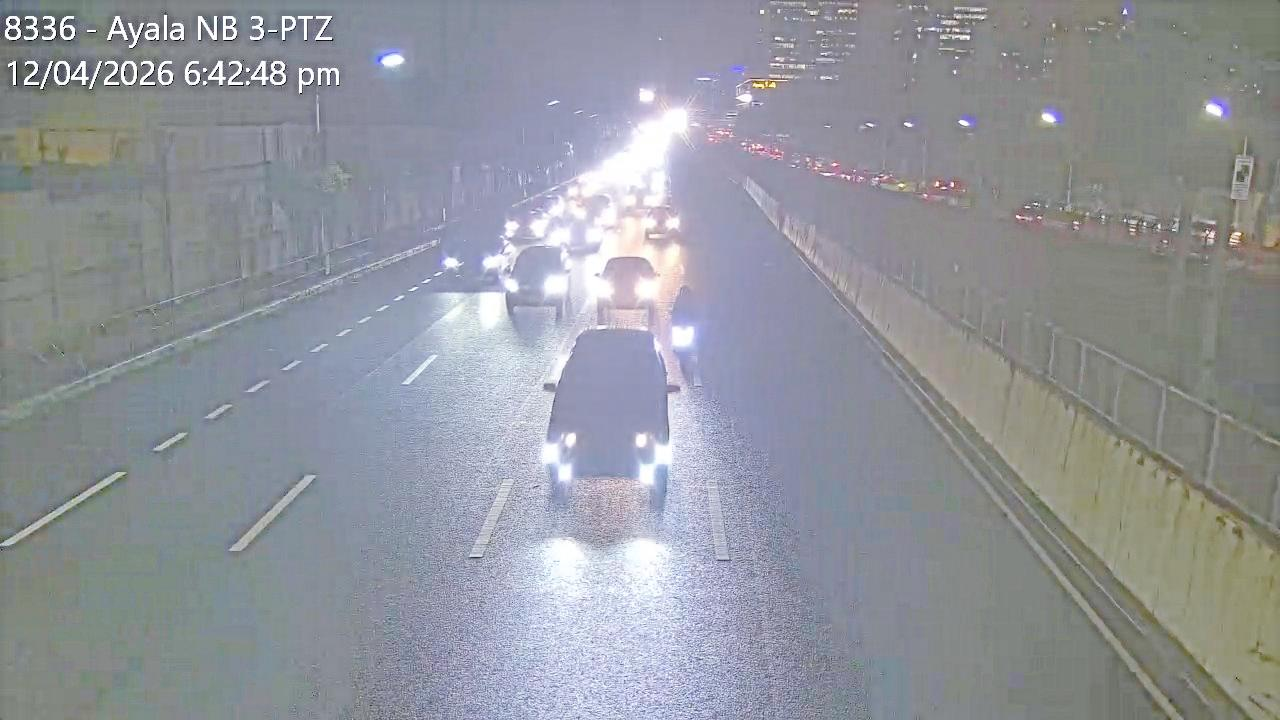Car: (542, 327, 675, 500), (438, 197, 516, 294), (500, 242, 572, 316), (592, 255, 660, 320), (504, 200, 551, 246), (561, 208, 604, 255), (642, 203, 679, 240)
Motor: (668, 277, 704, 368)
